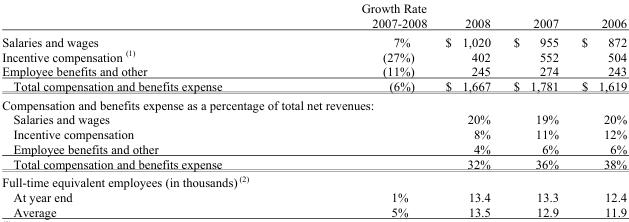table: (1, 1, 626, 218)
table column: (1, 1, 291, 218), (291, 1, 435, 218), (501, 1, 569, 218), (435, 1, 501, 218), (569, 1, 626, 218)
table column header: (1, 1, 626, 32)
table projected row header: (1, 171, 626, 189), (1, 95, 626, 111)
table row: (1, 1, 626, 32), (1, 171, 626, 189), (1, 78, 626, 95), (1, 32, 626, 48), (1, 95, 626, 111), (1, 48, 626, 63), (1, 63, 626, 78), (1, 111, 626, 126), (1, 126, 626, 141), (1, 141, 626, 156), (1, 156, 626, 171), (1, 189, 626, 204), (1, 204, 626, 218)
